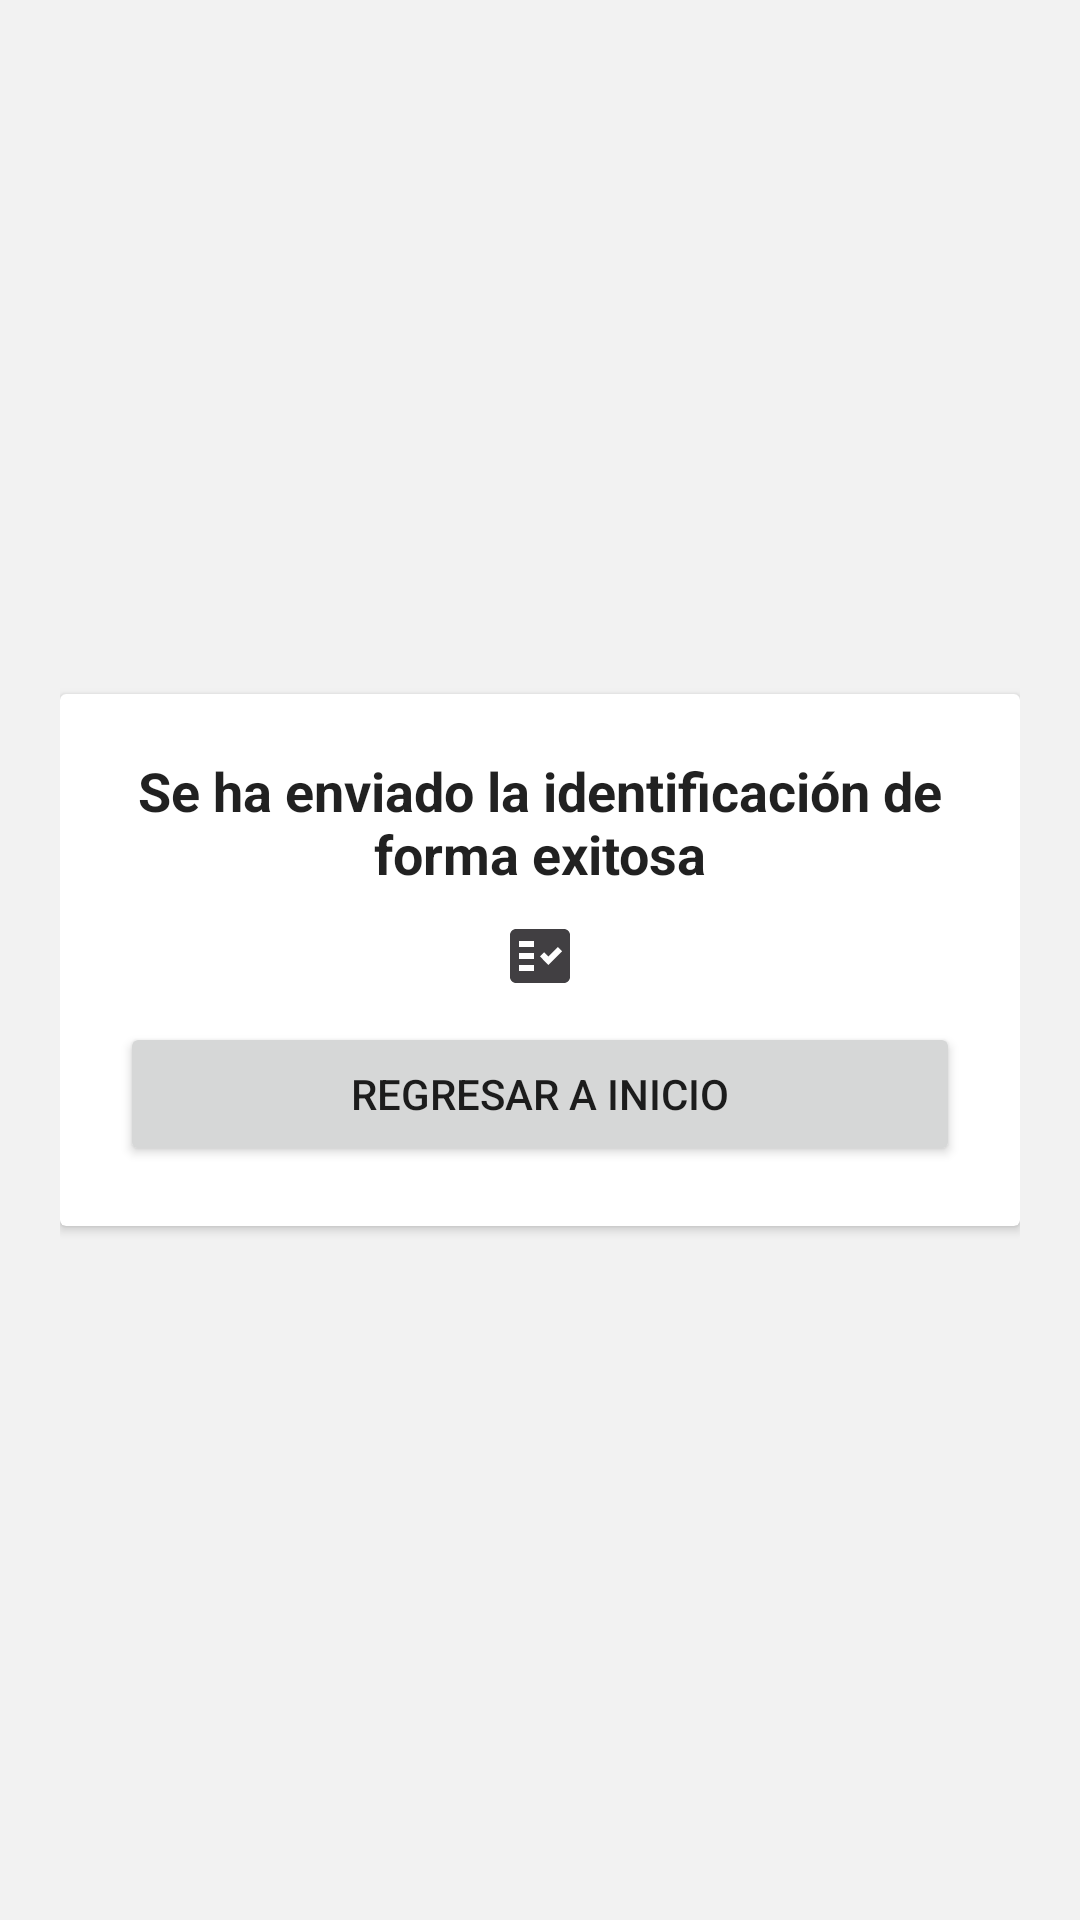

Named icons in this screenshot (1080×1920) and their bounding boxes, (x1, y1, x2, y2):
fact check: (510, 929, 570, 983)
